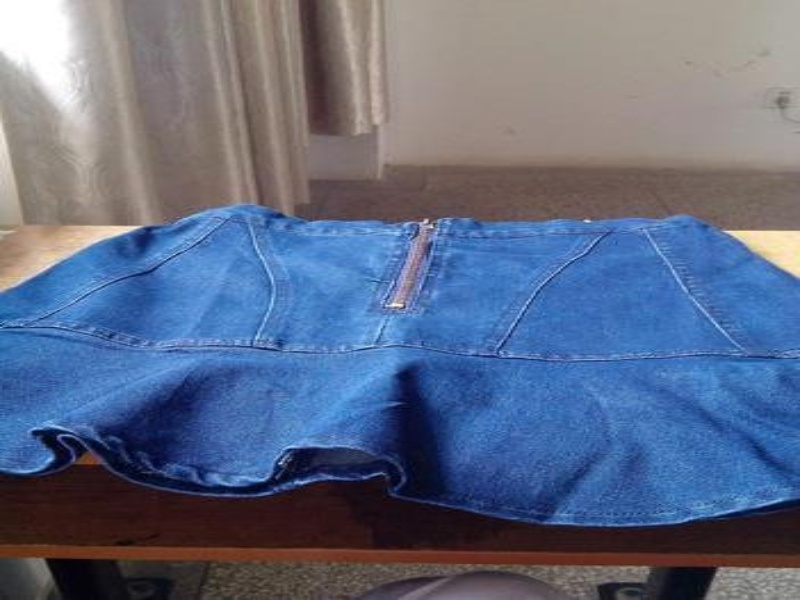skirt: (2, 204, 798, 532)
